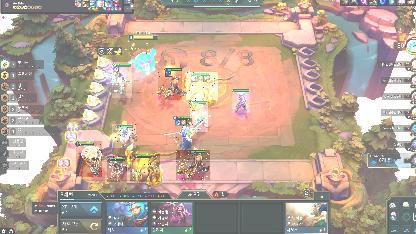1_bard: (112, 124, 136, 148)
1_idas: (186, 72, 218, 100), (130, 154, 160, 182)
1_jayce: (176, 150, 210, 180), (158, 68, 182, 100)
1_yasuo: (232, 89, 250, 113)
2_jax: (190, 100, 208, 132)
2_nasus: (112, 62, 132, 98)
2_twitch: (107, 156, 127, 182)
2_volibear: (76, 141, 102, 177)
2_yone: (174, 117, 194, 149)
